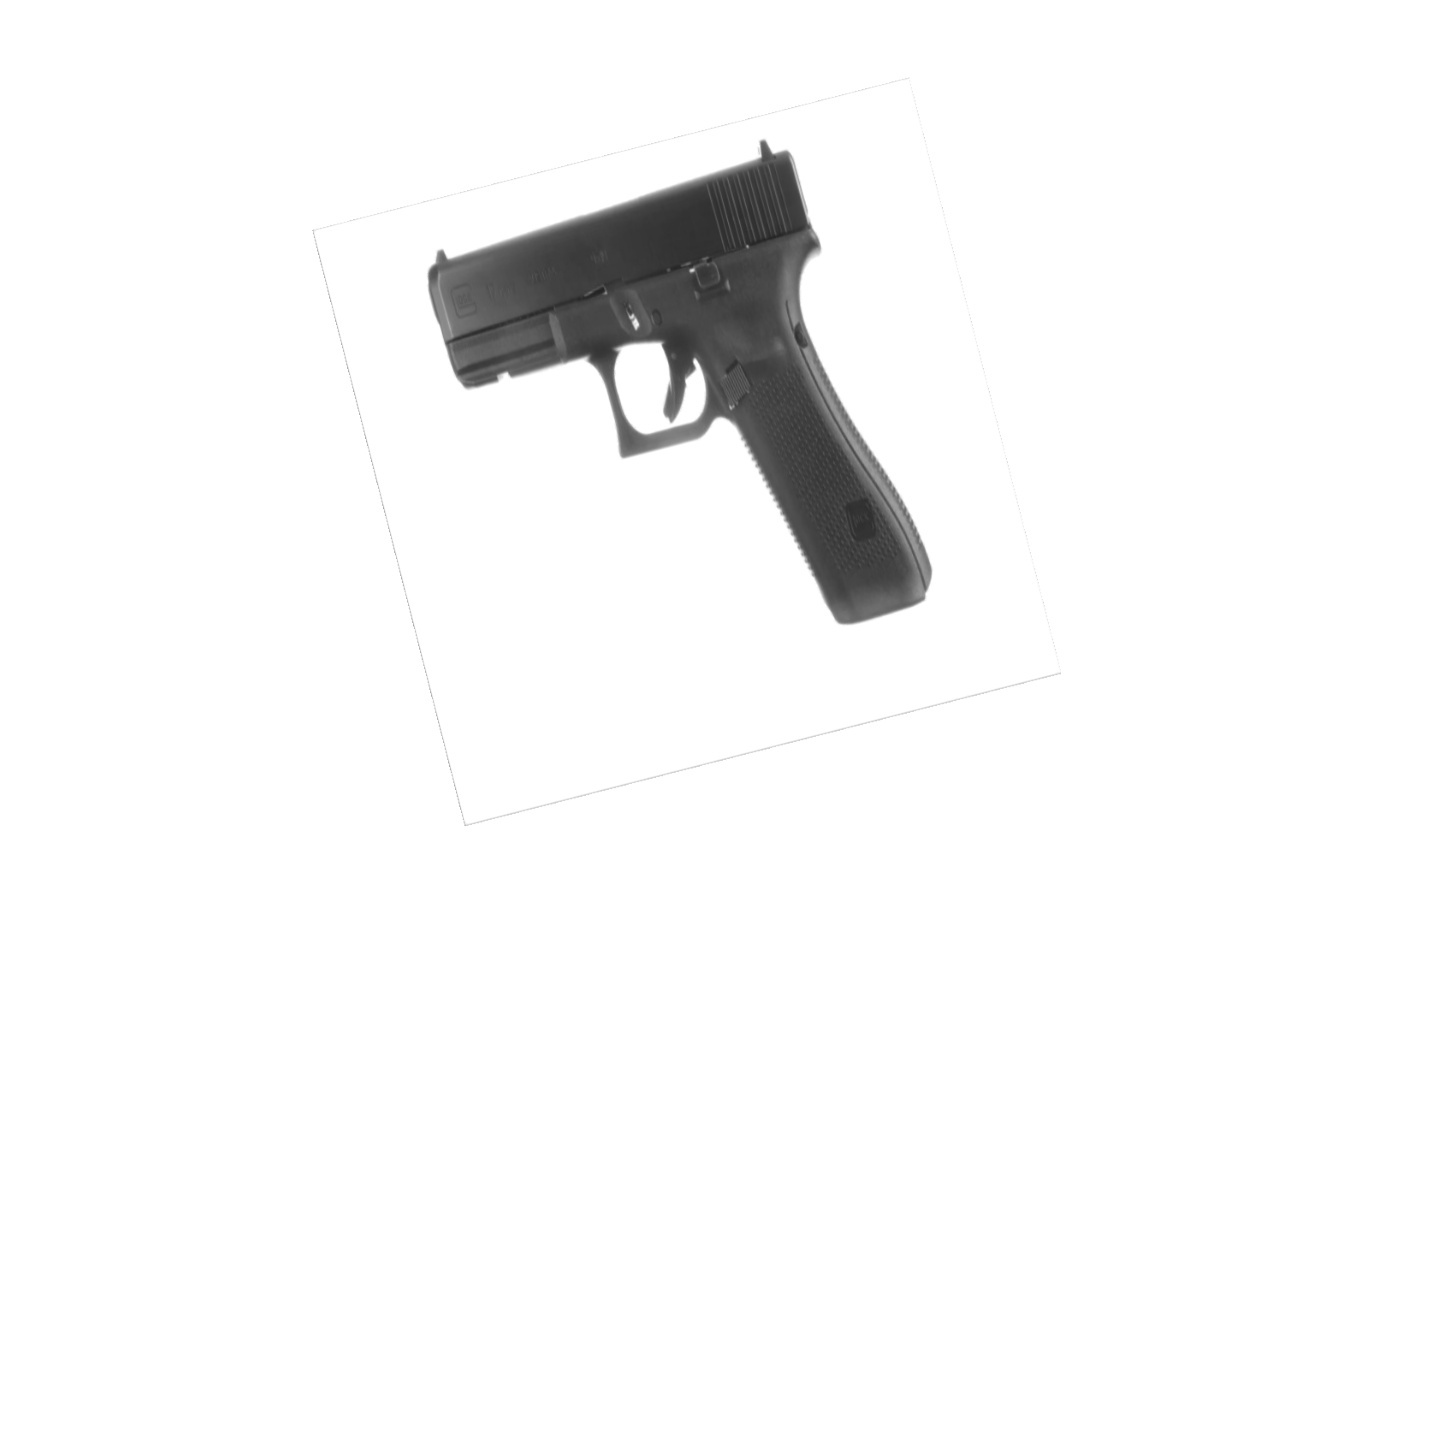gun: (415, 132, 938, 632)
